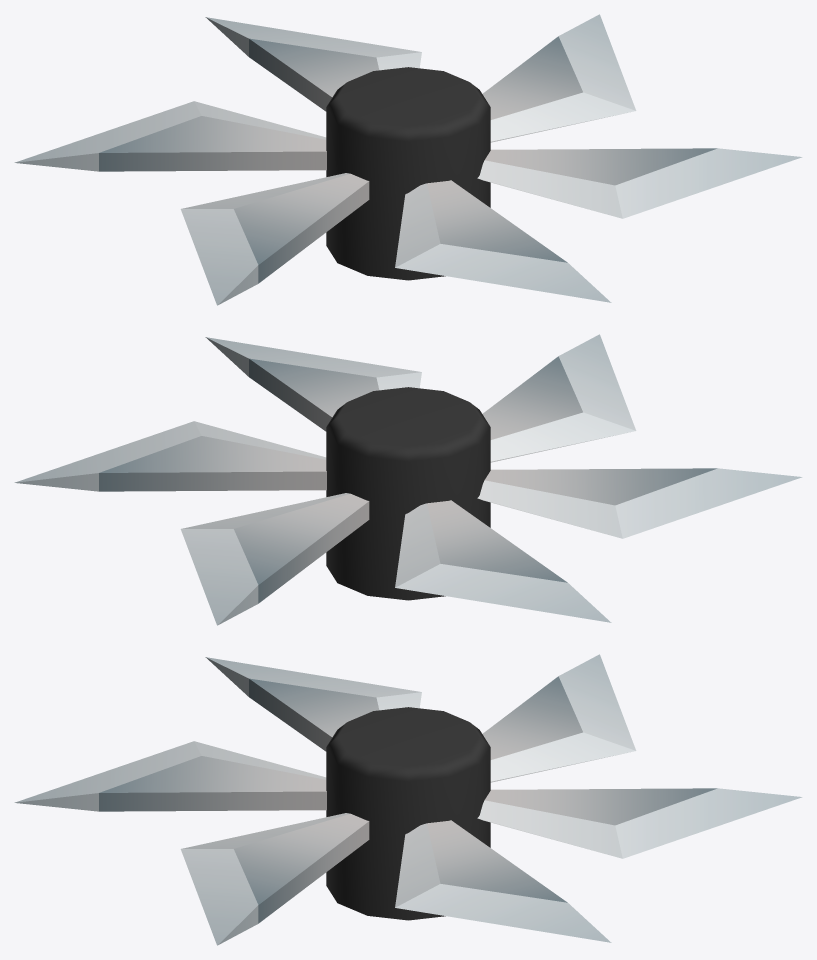
Rendered from obstacle_1_002.fbx.
3 renders of one model, top to bottom at view 1: azimuth 30°, elevation 25°; view 2: azimuth 150°, elevation 25°; view 3: azimuth 270°, elevation 25°, orthographic.
Visible parts, largest first — view 1: obstacle_1_002; view 2: obstacle_1_002; view 3: obstacle_1_002.
Boxes of the visible parts, box(x1,y1,x2,y2) form: obstacle_1_002: box(14, 14, 802, 305); obstacle_1_002: box(14, 334, 802, 625); obstacle_1_002: box(14, 654, 802, 945).
Bounding box in the file's own units: 840 × 961 × 200.
